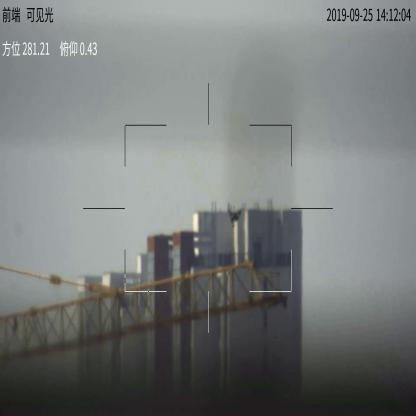uav: (227, 209, 242, 228)
